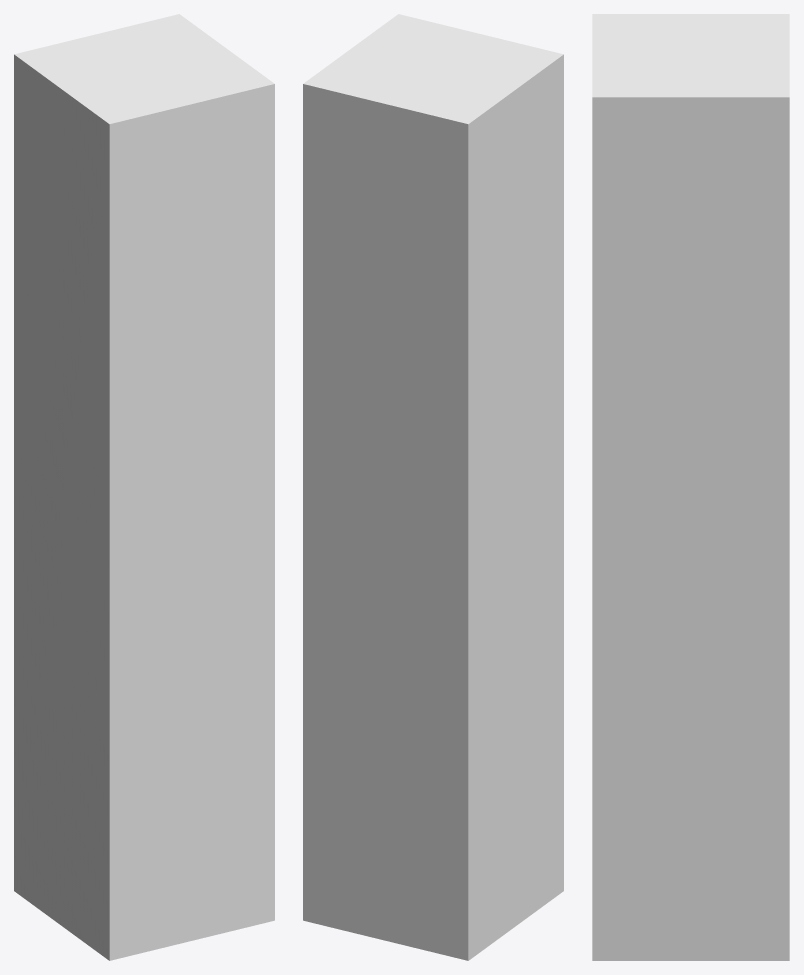
File: DividerWallSmall.fbx
The picture shows the model from 3 angles, left to right: view 1: azimuth 30°, elevation 25°; view 2: azimuth 150°, elevation 25°; view 3: azimuth 270°, elevation 25°; orthographic projection. The views are drawn at different scales.
Parts seen in each view (by area): view 1: DividerWallSmall; view 2: DividerWallSmall; view 3: DividerWallSmall.
Part boxes in pixels (x1,y1,x2,y2): DividerWallSmall: [14, 14, 274, 960]; DividerWallSmall: [303, 14, 563, 960]; DividerWallSmall: [592, 14, 789, 960].
Bounding box in the file's own units: 30 × 145 × 30.
1 material, 1 textured.
